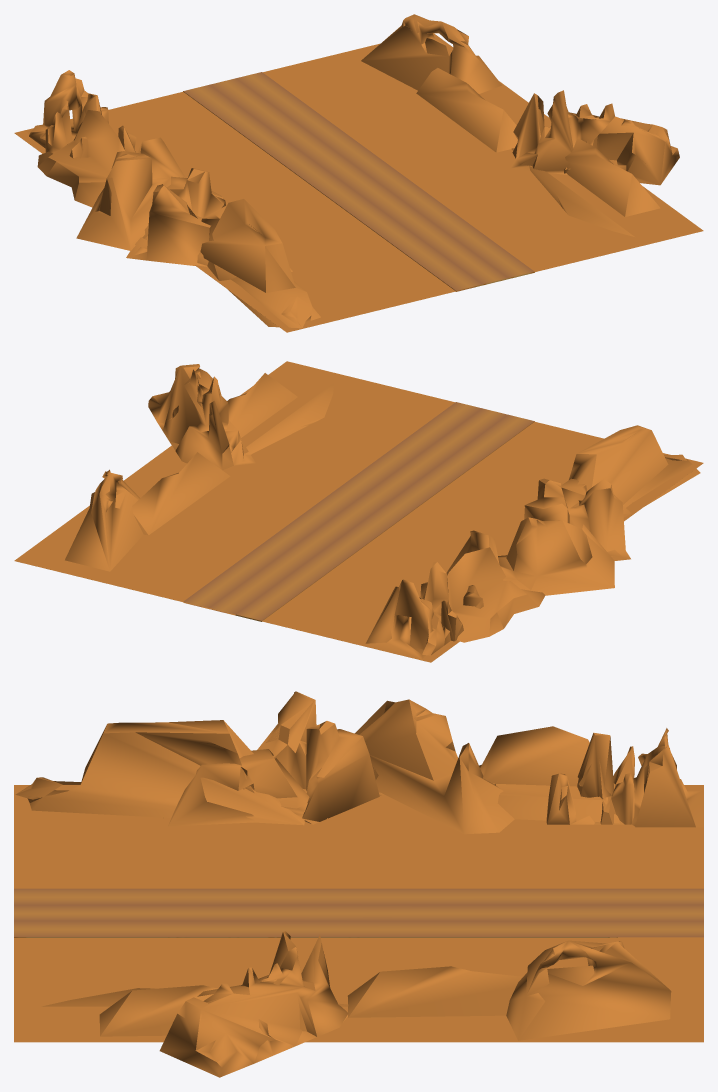
Rendered from dessertnew.fbx.
The picture shows the model from 3 angles, top to bottom: view 1: azimuth 30°, elevation 25°; view 2: azimuth 150°, elevation 25°; view 3: azimuth 270°, elevation 25°; orthographic projection. The views are drawn at different scales.
Visible parts, largest first — view 1: Cube, Plateau_desert_002.001; view 2: Cube, Plateau_desert_002.001; view 3: Cube, Plateau_desert_002.001.
Boxes of the visible parts, box(x1,y1,x2,y2) form: Cube: box(14, 33, 703, 332); Plateau_desert_002.001: box(22, 14, 679, 328); Cube: box(14, 361, 703, 662); Plateau_desert_002.001: box(65, 364, 700, 660); Cube: box(14, 785, 703, 1042); Plateau_desert_002.001: box(15, 691, 703, 1077).
Size of the model in its own units: 6114 by 783 by 5400.
